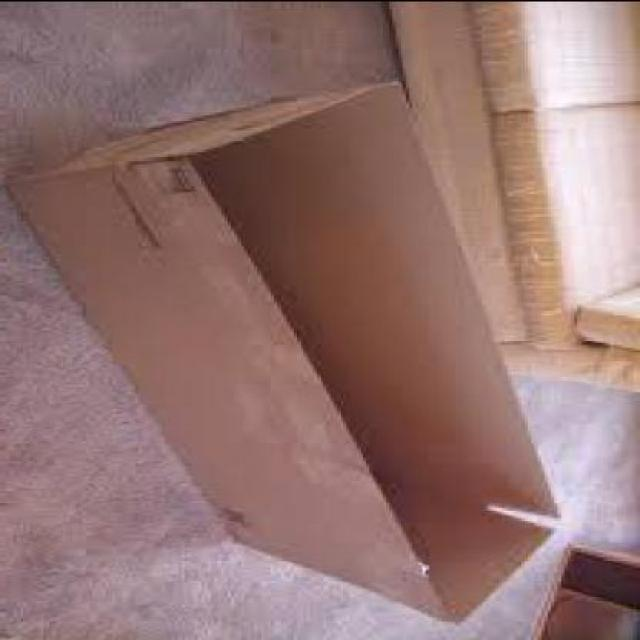box: (8, 85, 565, 626), (534, 546, 638, 639)
